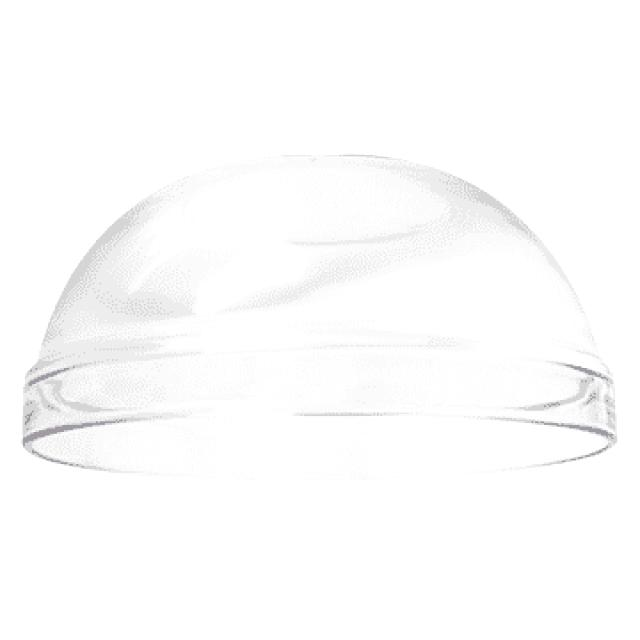Mangkok: (8, 148, 624, 524)
